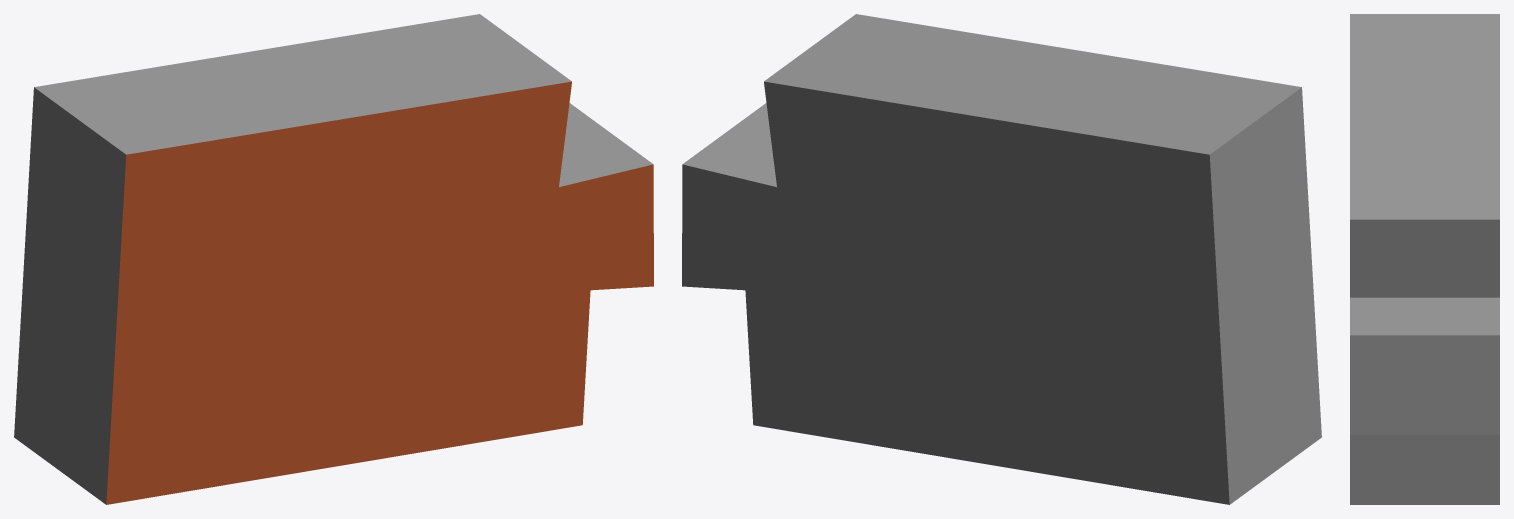
Rendered from construction_4250_assumed_A_Casa_h6m.obj.
The picture shows the model from 3 angles, left to right: view 1: azimuth 30°, elevation 25°; view 2: azimuth 150°, elevation 25°; view 3: azimuth 270°, elevation 25°; orthographic projection. The views are drawn at different scales.
Visible parts, largest first — view 1: construction_4250_assumed_A_Casa; view 2: construction_4250_assumed_A_Casa; view 3: construction_4250_assumed_A_Casa.
Boxes of the visible parts, left/top/right/bottom form: construction_4250_assumed_A_Casa: left=14, top=14, right=653, bottom=504; construction_4250_assumed_A_Casa: left=682, top=14, right=1321, bottom=504; construction_4250_assumed_A_Casa: left=1350, top=14, right=1499, bottom=504.
Size of the model in its own units: 20.56 by 13.7 by 6.
